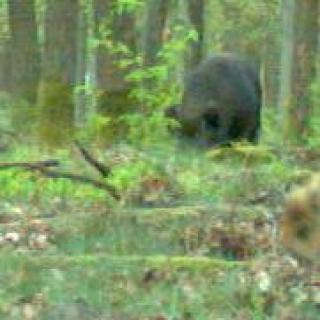Pig: (170, 48, 274, 173)
